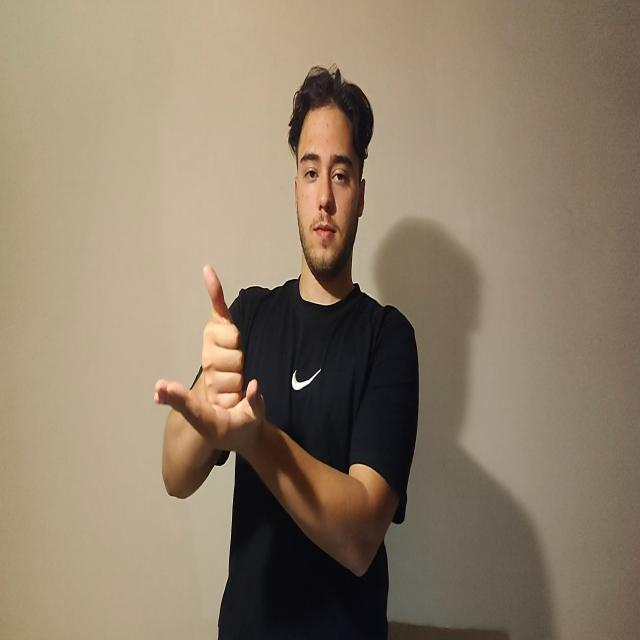help: (155, 266, 265, 451)
